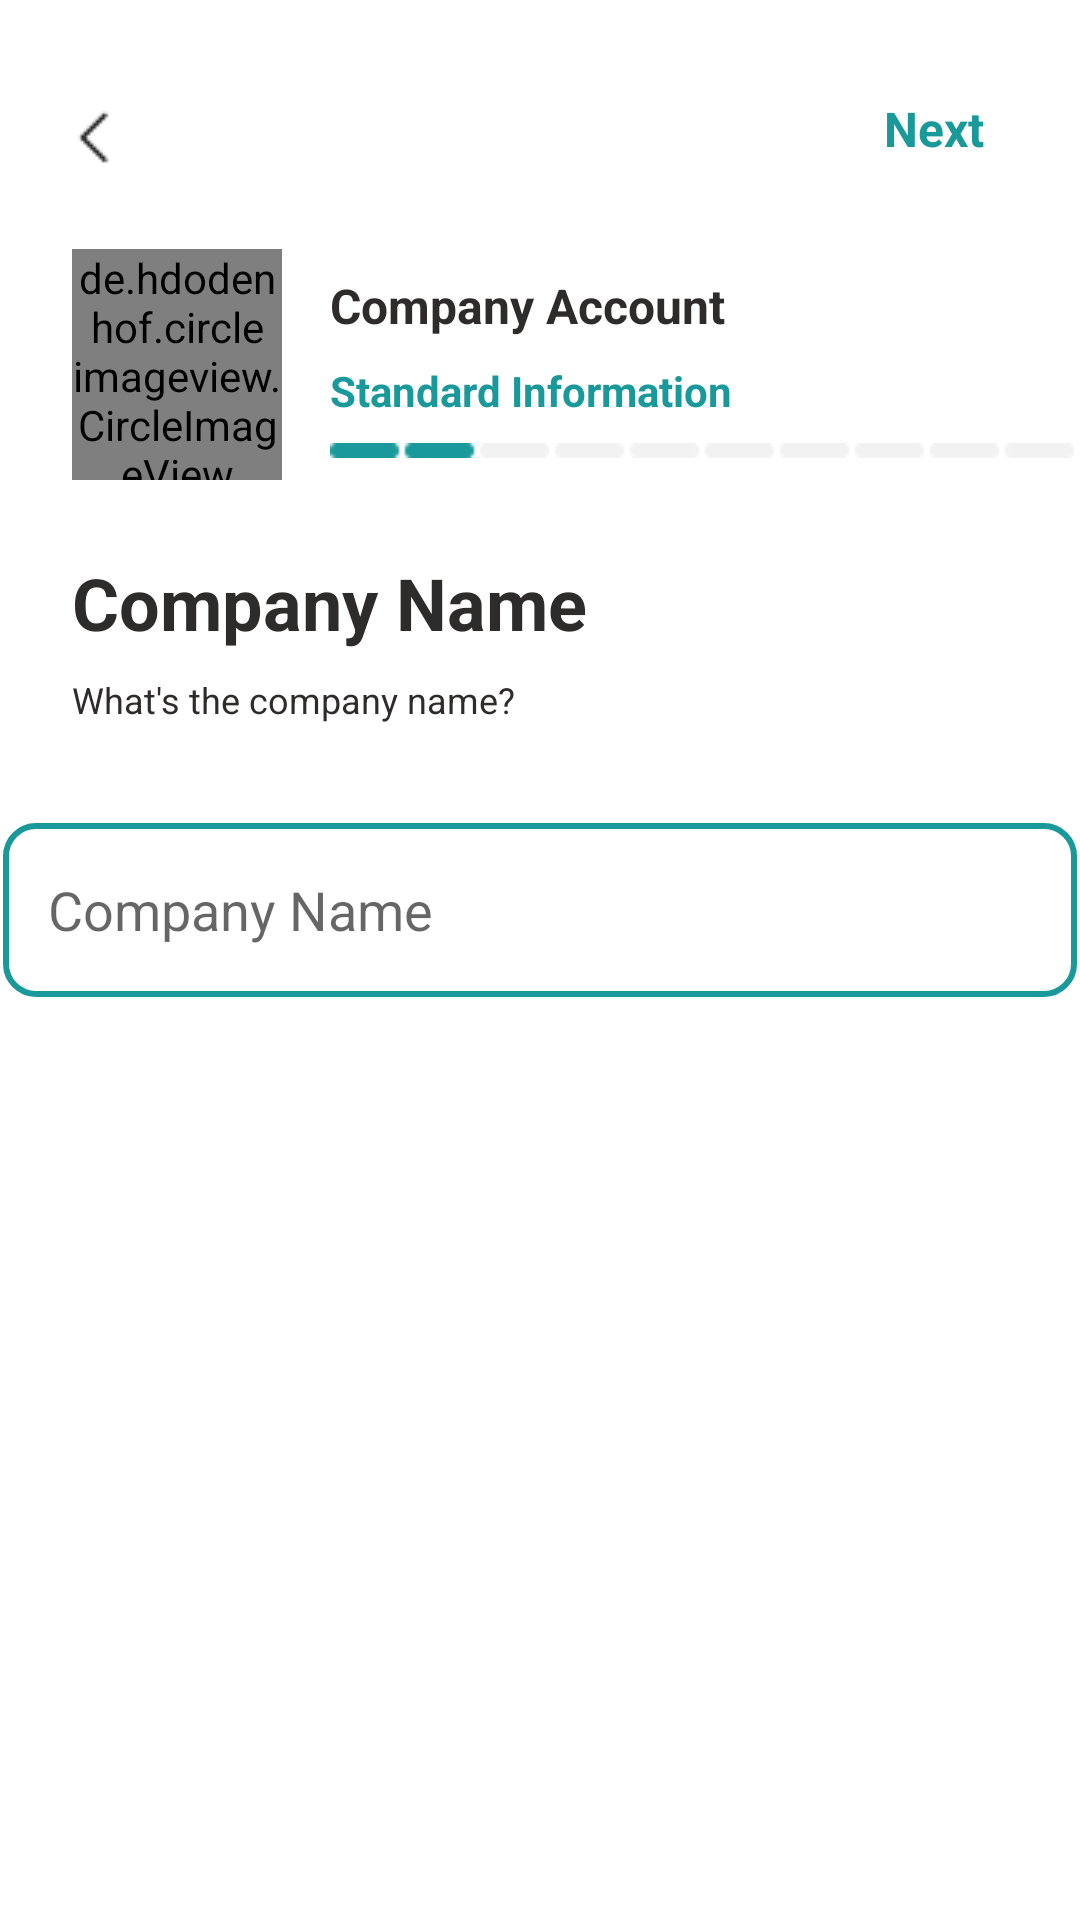

Screen size 1080*1920. Icon name, then its center in pixels as point (x, y):
back: point (94, 137)
